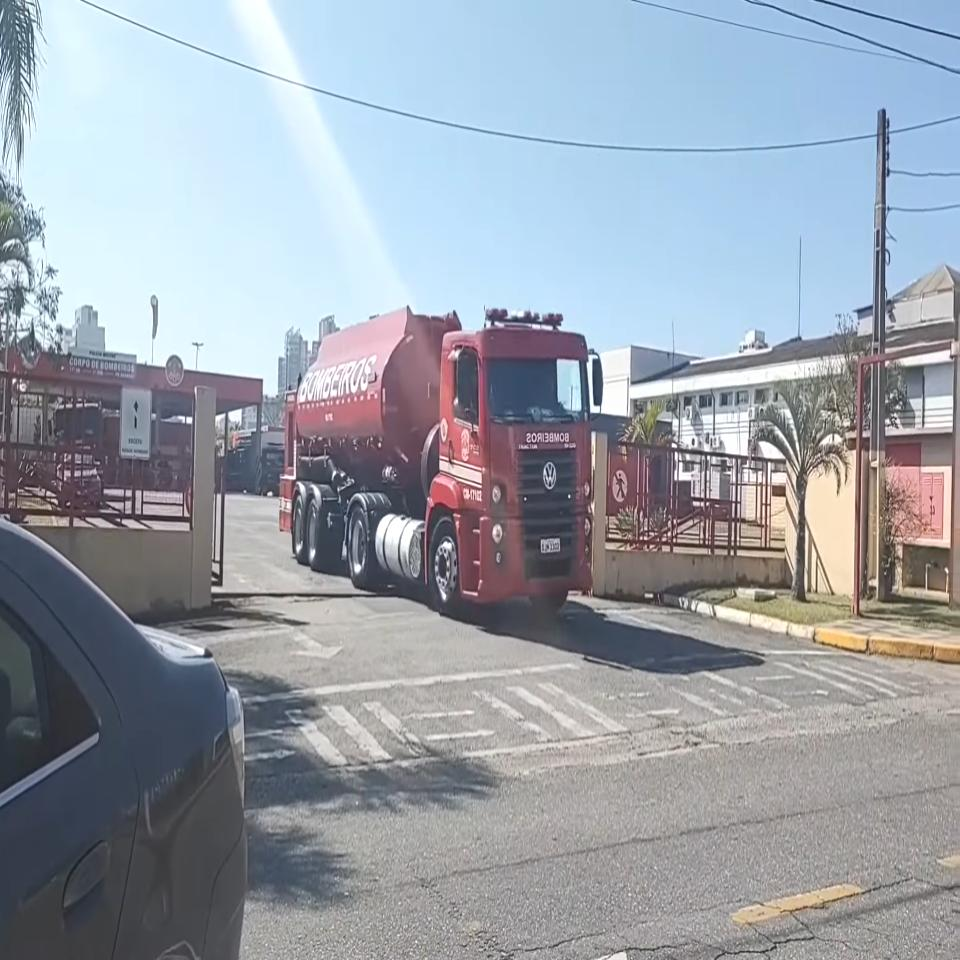bombeiro: (291, 302, 604, 614)
